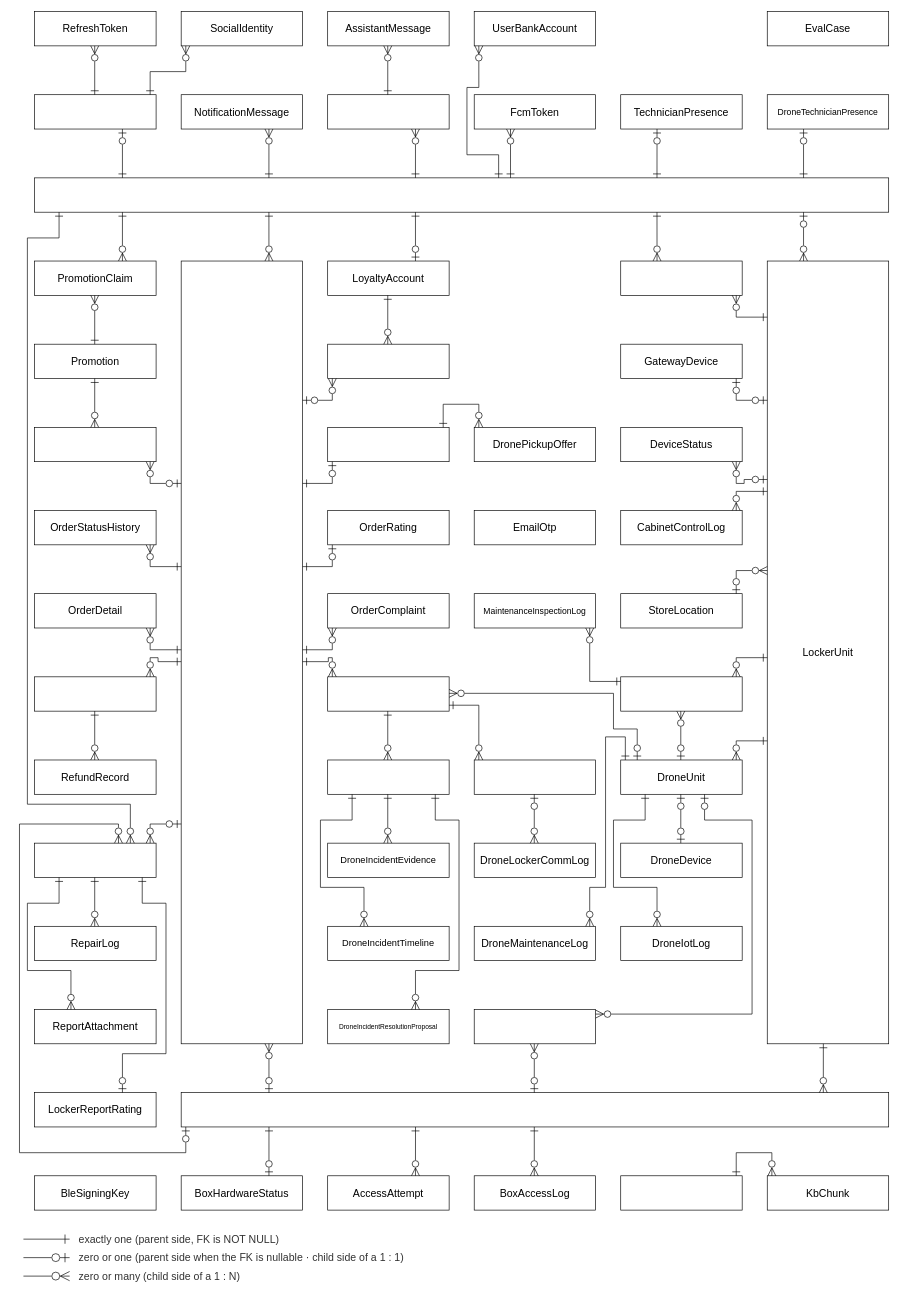
This 900x1297 diagram has some shape labels left out. The centre of each missing label's shape, as x and y in pixels:
AssistantConversation: point 388,111
AuthAccount: point 95,111
BleTestGrant: point 681,277
DroneDeliveryRequest: point 535,1026
DroneDeliverySession: point 535,776
DroneMission: point 388,693
DroneParcelIncident: point 388,776
DronePickup: point 388,444
KbDocument: point 681,1192
LockerBox: point 535,1109
LockerOrder: point 242,652
LockerReport: point 95,859
MaintenanceSchedule: point 681,693
PaymentRecord: point 95,693
PointTransaction: point 388,361
PromotionUsage: point 95,444
UserProfile: point 461,194
